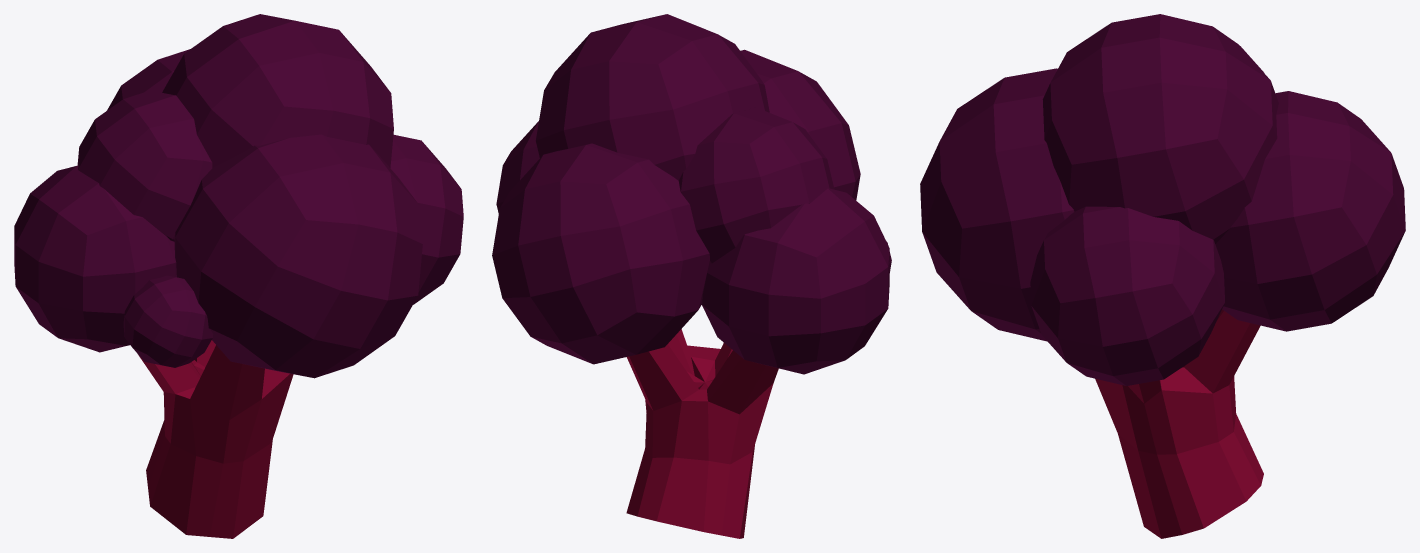
File: Broccoli_01.fbx
3 renders of one model, left to right at view 1: azimuth 30°, elevation 25°; view 2: azimuth 150°, elevation 25°; view 3: azimuth 270°, elevation 25°, orthographic. The views are drawn at different scales.
Visible parts, largest first — view 1: Broccoli_01; view 2: Broccoli_01; view 3: Broccoli_01.
Part boxes in pixels (x1,y1,x2,y2): Broccoli_01: (14,14,463,538); Broccoli_01: (492,14,891,538); Broccoli_01: (920,14,1405,538).
Size of the model in its own units: 6.27 by 7.5 by 6.29.
